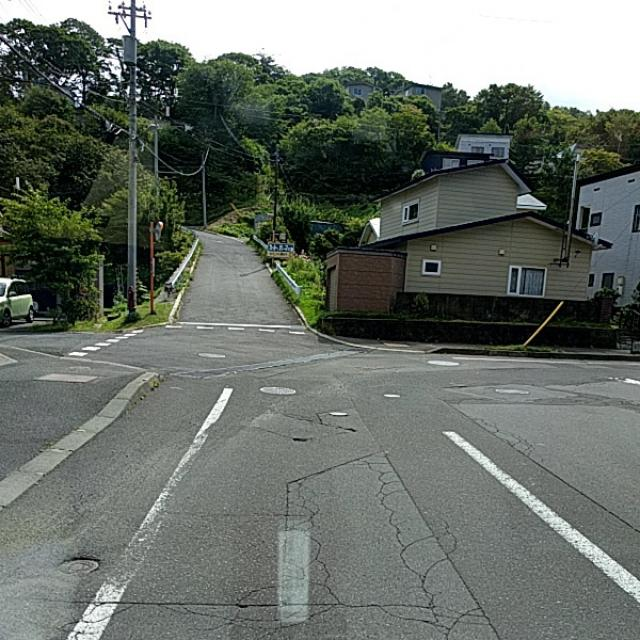pothole: (240, 454, 481, 639)
